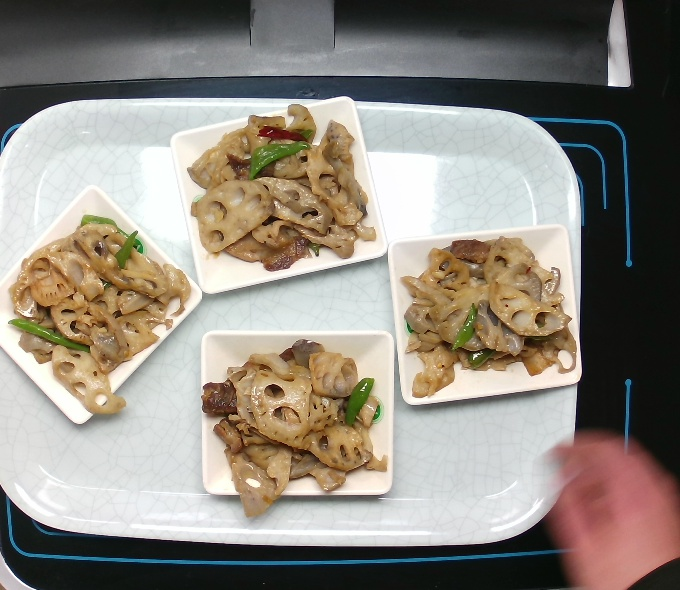wcq-OuPianChaoRou: (10, 211, 191, 424), (200, 339, 391, 520), (188, 103, 383, 273), (386, 232, 581, 402)
